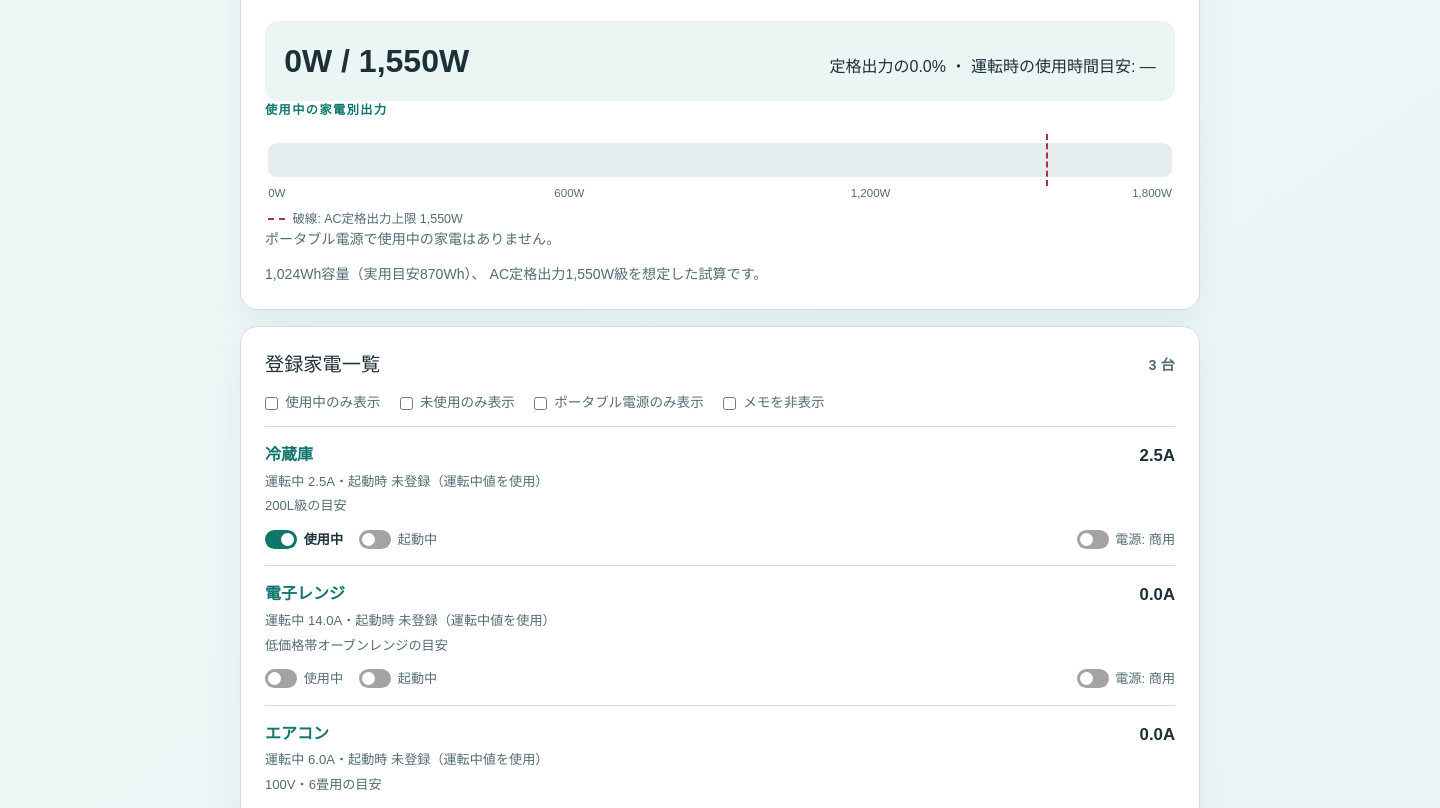
Test: Home › filters the appliance list to unused appliances and keeps the filters mutually exclusive
(page scrolled)
expect the heading "登録家電一覧" is shown: met, box [265,351,380,380]
Click the checkbox labelled "未使用のみ表示" at (406, 403), box [400,397,412,410]
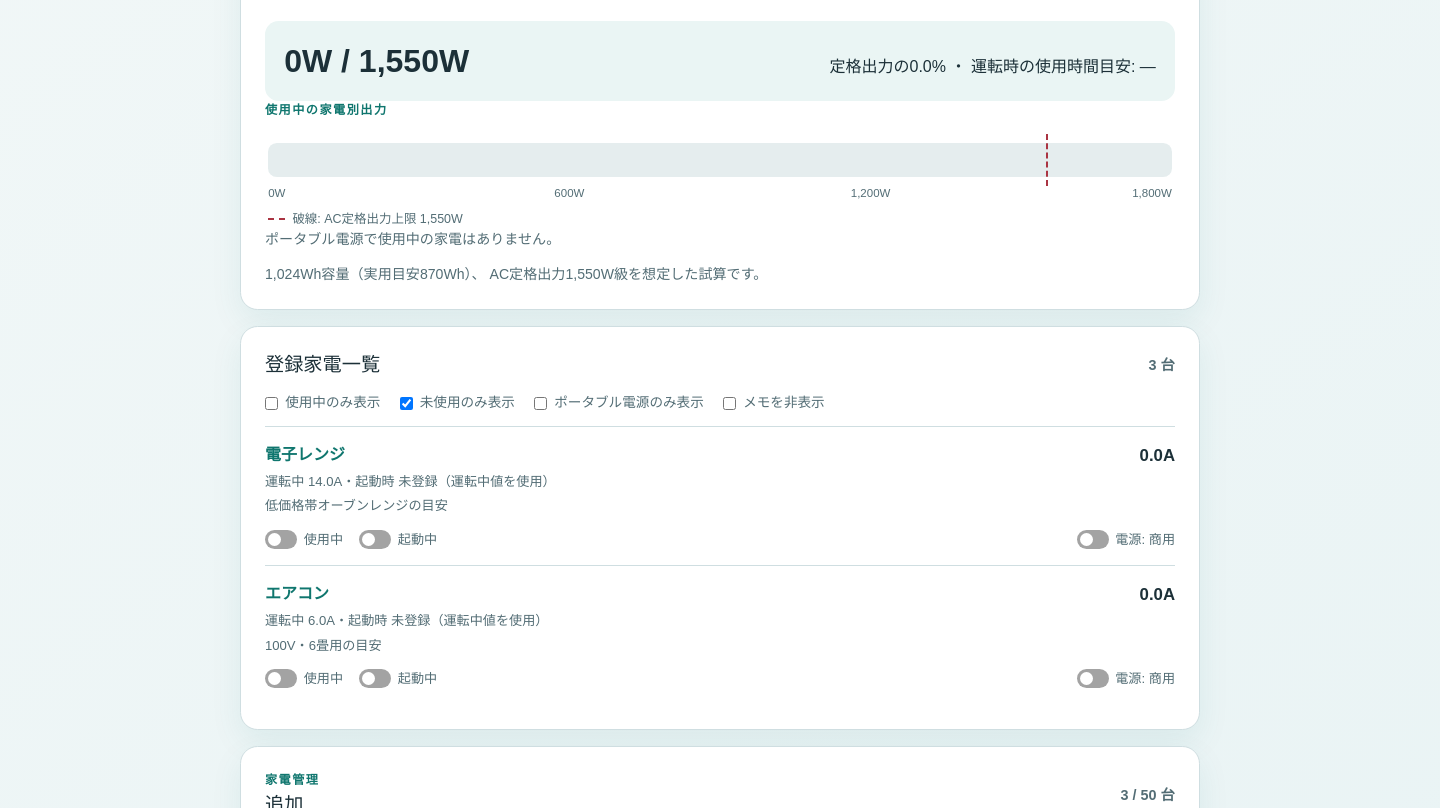
expect the checkbox labelled "使用中のみ表示" is not checked: met, box [265,397,278,410]
expect the checkbox labelled "未使用のみ表示" is checked: met, box [400,397,412,410]
Click the switch named "エアコンを集計に含める" at (304, 679), box [265,669,343,689]
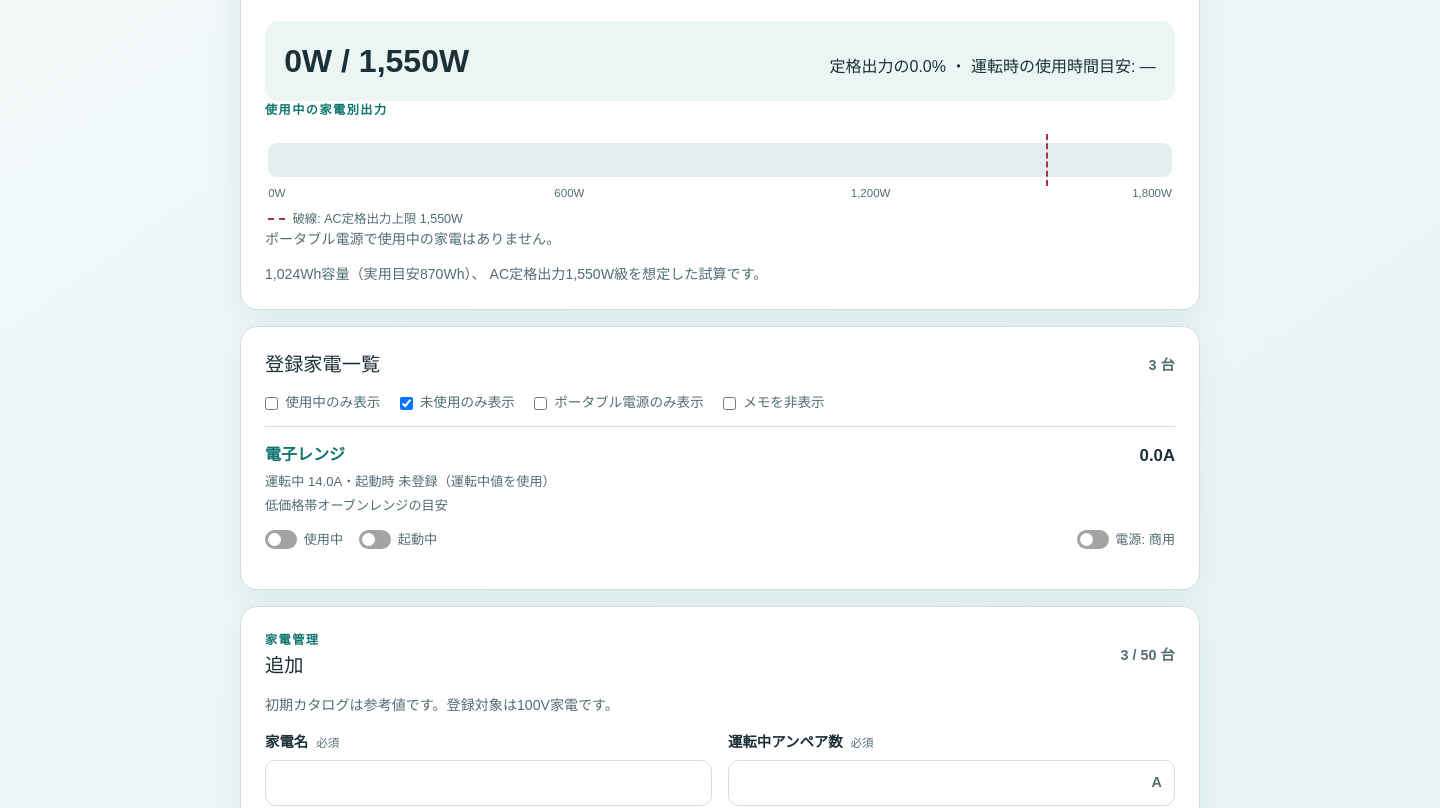
expect the heading "エアコン" is not shown: met
Click the switch named "電子レンジを集計に含める" at (304, 540), box [265,530,343,549]
(page scrolled)
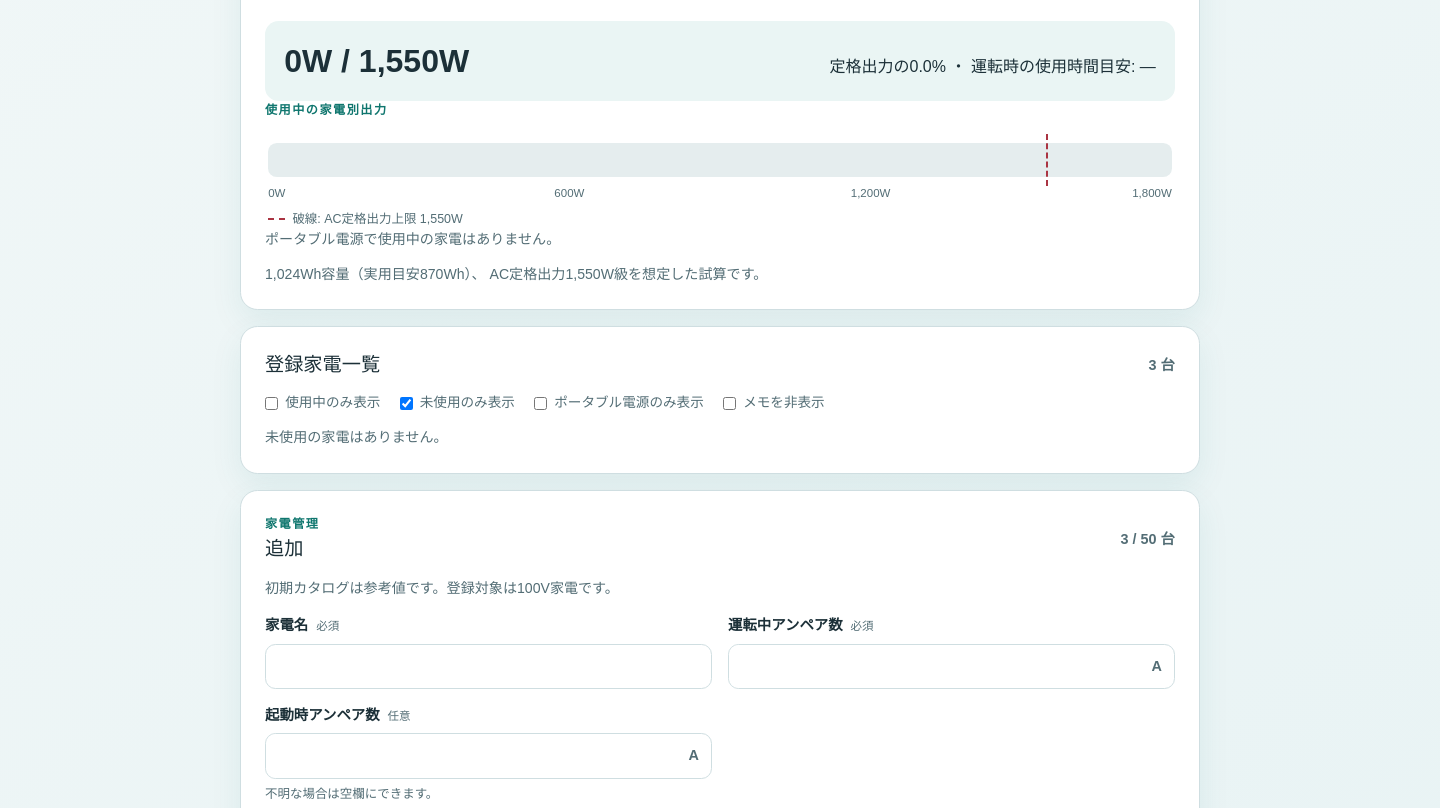
expect the text "未使用の家電はありません。" is shown: met, box [265,429,448,445]
Click the checkbox labelled "使用中のみ表示" at (272, 403), box [265,397,278,410]
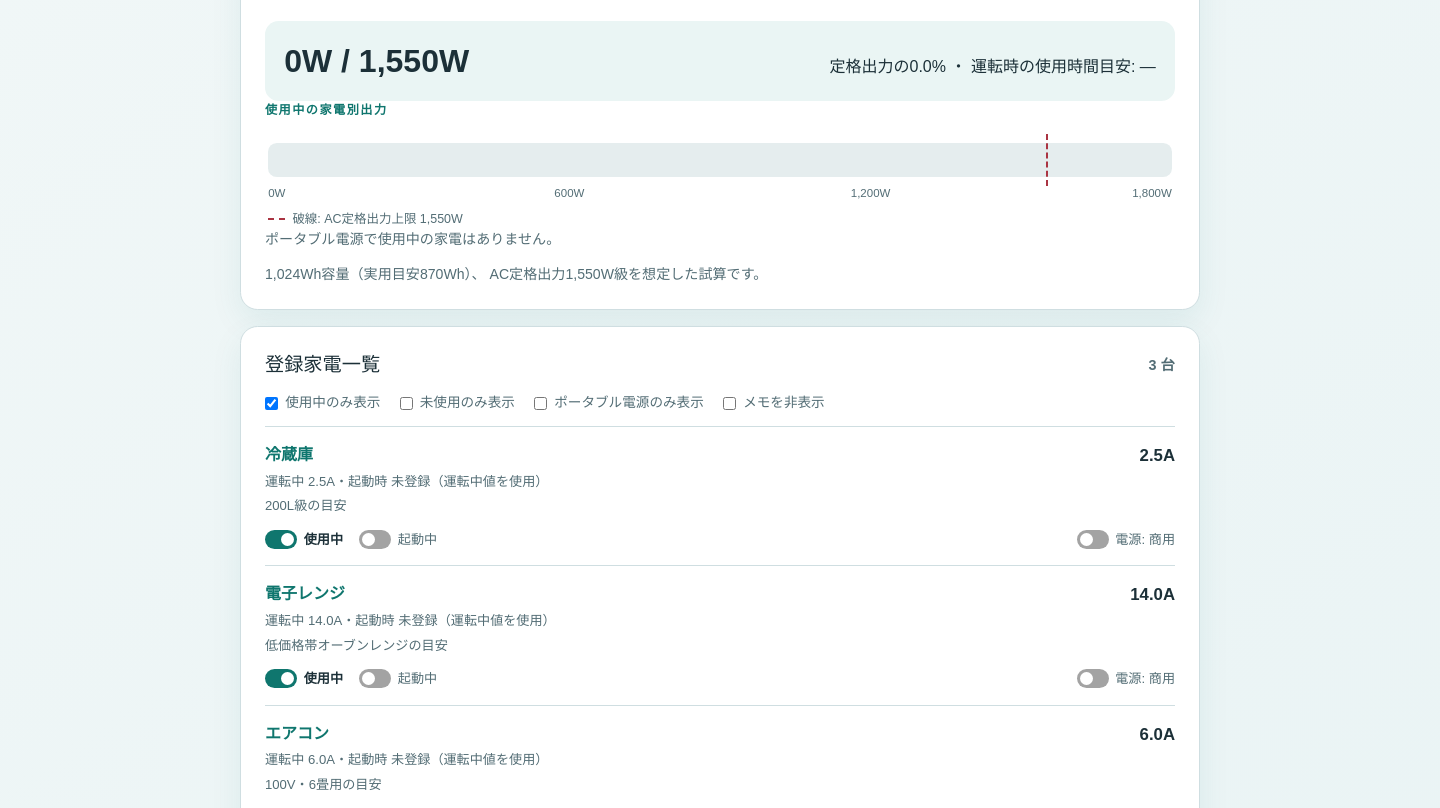
expect the checkbox labelled "使用中のみ表示" is checked: met, box [265,397,278,410]
expect the checkbox labelled "未使用のみ表示" is not checked: met, box [400,397,412,410]
expect the heading "冷蔵庫" is shown: met, box [265,443,313,467]
